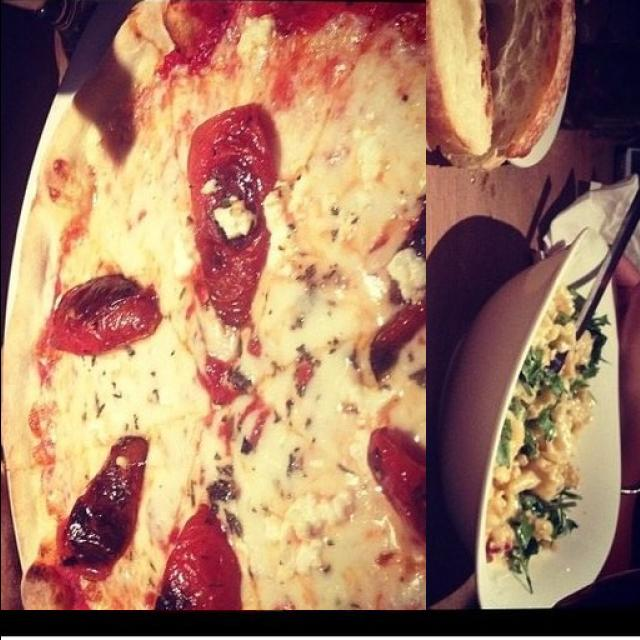pizza: (0, 0, 425, 610)
